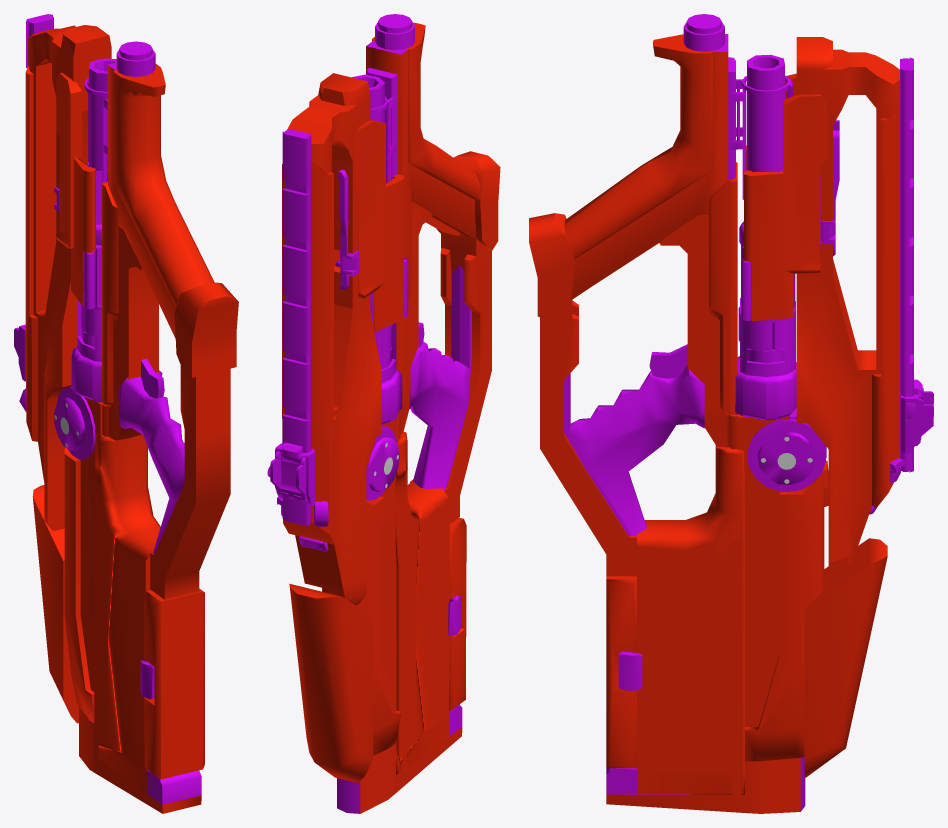
Rendered from lstar2.fbx.
3 renders of one model, left to right at view 1: azimuth 30°, elevation 25°; view 2: azimuth 150°, elevation 25°; view 3: azimuth 270°, elevation 25°, orthographic. The views are drawn at different scales.
Parts seen in each view (by area): view 1: w_lstar_LOD0; view 2: w_lstar_LOD0; view 3: w_lstar_LOD0.
Boxes of the visible parts, <box> form: w_lstar_LOD0: <box>14,14,238,813</box>; w_lstar_LOD0: <box>267,14,500,813</box>; w_lstar_LOD0: <box>529,14,933,813</box>.
Bounding box in the file's own units: 246 × 2679 × 1252.
